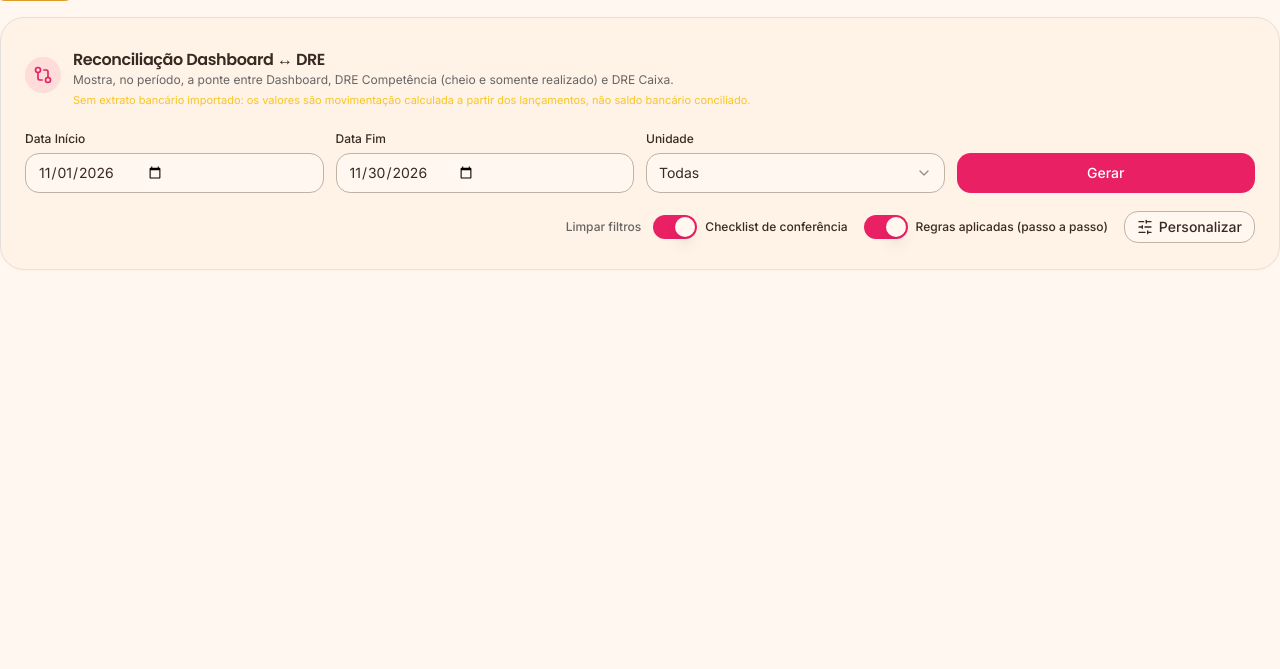
Test: relatório Reconciliação Dashboard ↔ DRE › o checklist conta as severidades e, por padrão, mostra só os itens que pedem atenção
The width and height of the screenshot is (1280, 669).
Click the button "Gerar": (1106, 172) x1=956 y1=152 x2=1255 y2=192
(page scrolled)
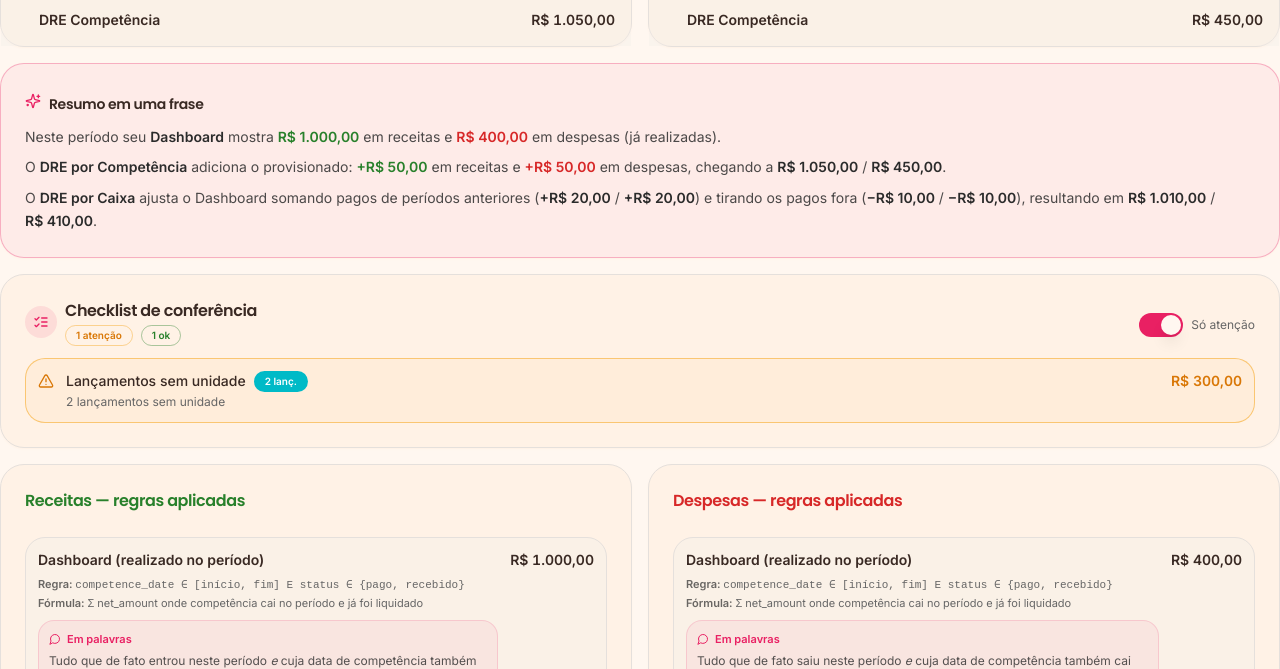
Now the text "Lançamentos sem unidade" is shown, box x1=66 y1=371 x2=246 y2=391
Now the text "1 atenção" is shown, box x1=65 y1=324 x2=133 y2=346
Now the text "1 ok" is shown, box x1=141 y1=324 x2=181 y2=346
Click the switch named "Só atenção": (1161, 325) x1=1139 y1=313 x2=1183 y2=337
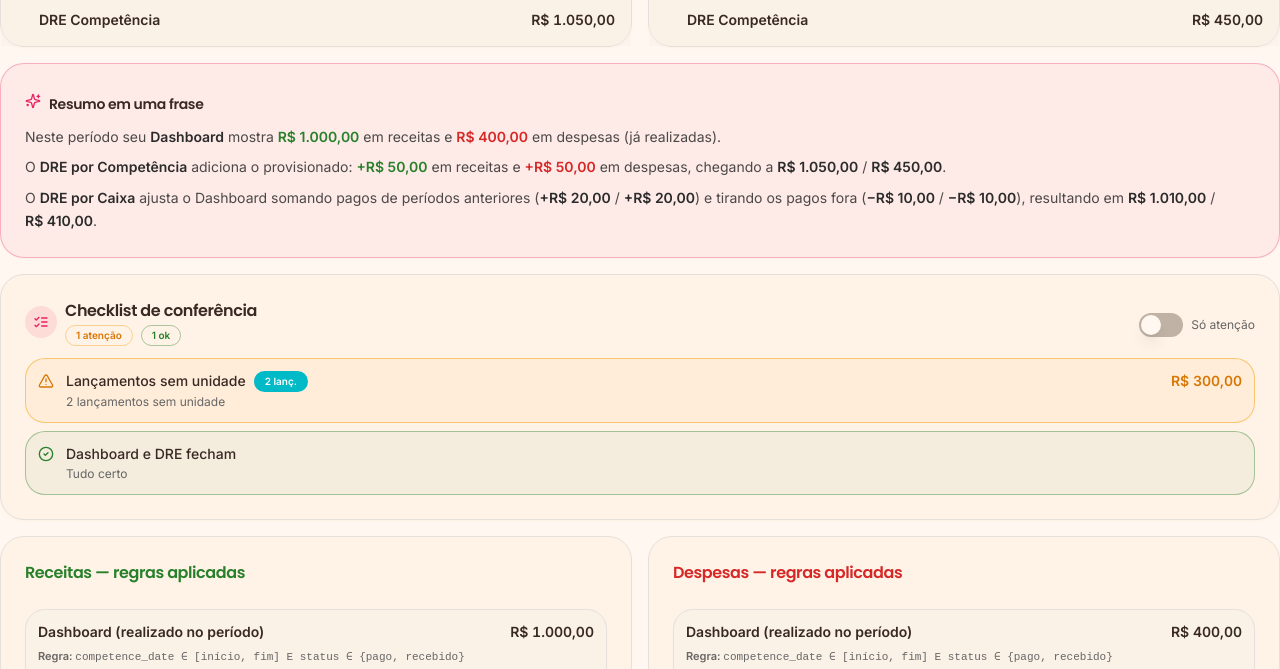
Now the text "Dashboard e DRE fecham" is shown, box x1=66 y1=444 x2=236 y2=464
